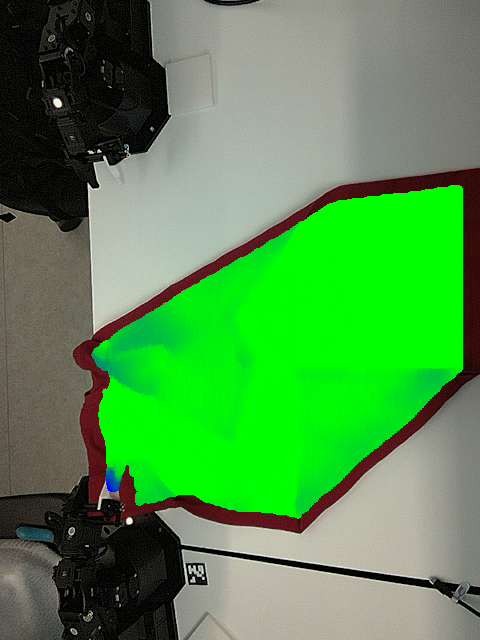V: (280, 347, 335, 403), (202, 396, 252, 451)
